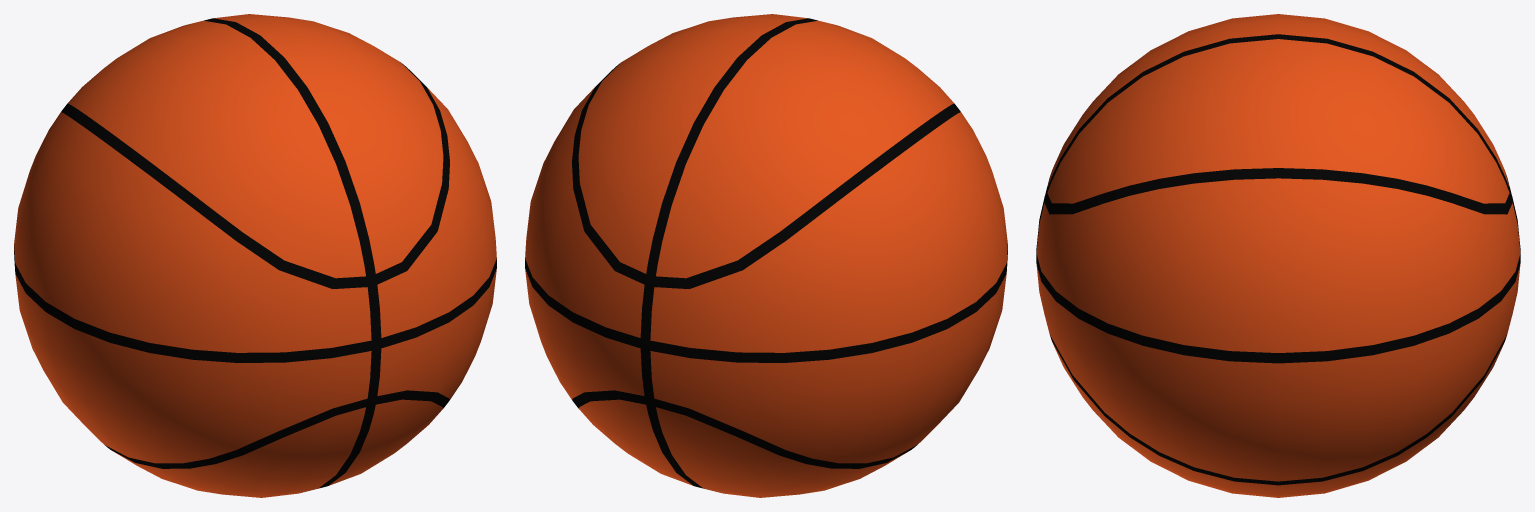
The model's file is ball.glb.
3 renders of one model, left to right at view 1: azimuth 30°, elevation 25°; view 2: azimuth 150°, elevation 25°; view 3: azimuth 270°, elevation 25°, orthographic.
Visible parts, largest first — view 1: Basketball; view 2: Basketball; view 3: Basketball.
Boxes of the visible parts, x1=… form: Basketball: x1=14, y1=14, x2=496, y2=497; Basketball: x1=525, y1=14, x2=1007, y2=497; Basketball: x1=1036, y1=14, x2=1520, y2=497.
Bounding box in the file's own units: 2 × 2 × 2.
